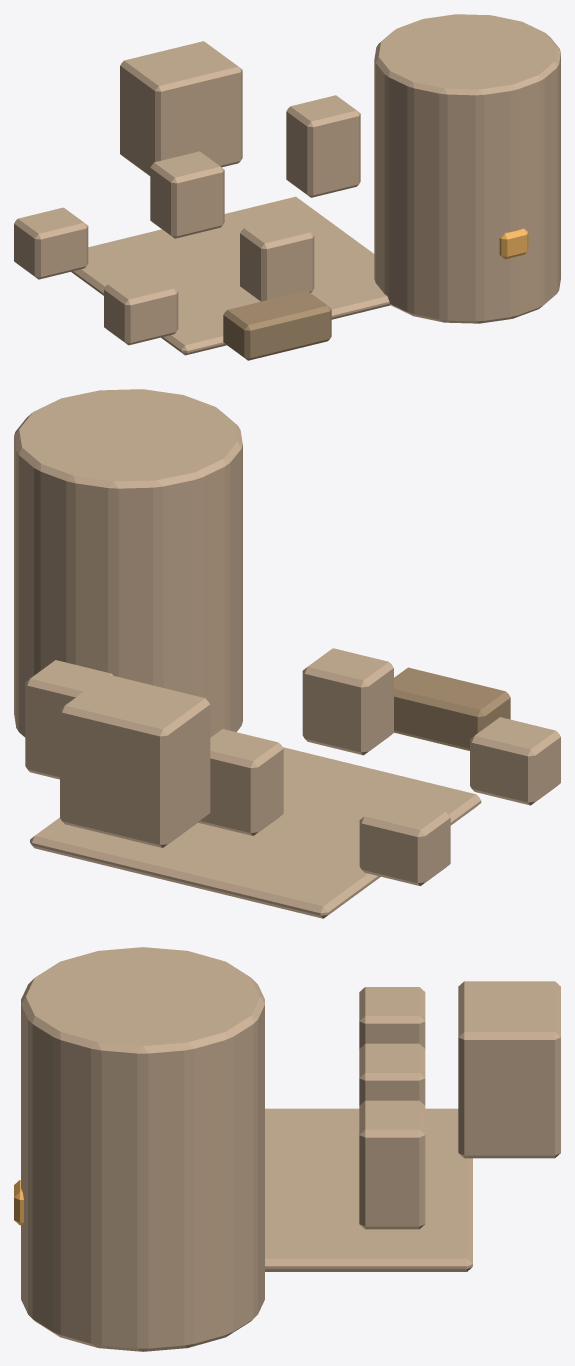
File: mudbrick_yard.glb
The picture shows the model from 3 angles, top to bottom: view 1: azimuth 30°, elevation 25°; view 2: azimuth 150°, elevation 25°; view 3: azimuth 270°, elevation 25°; orthographic projection. The views are drawn at different scales.
Visible parts, largest first — view 1: mudbrick_yard; view 2: mudbrick_yard; view 3: mudbrick_yard.
Part boxes in pixels (x1,y1,x2,y2): mudbrick_yard: (14,14,560,360); mudbrick_yard: (14,389,560,918); mudbrick_yard: (14,947,560,1351).
Size of the model in its own units: 2.2 by 1.15 by 1.87.
